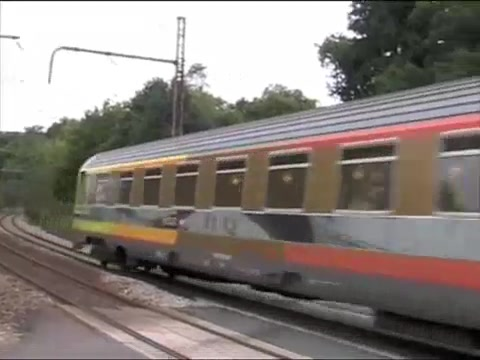train: (73, 76, 480, 356)
